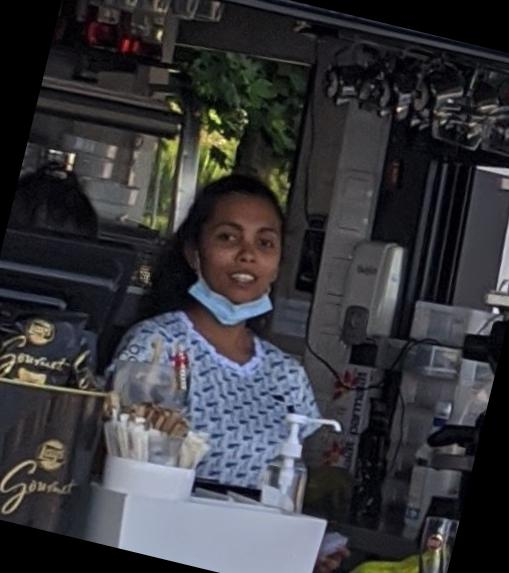mask_weared_incorrect: (189, 210, 290, 330)
